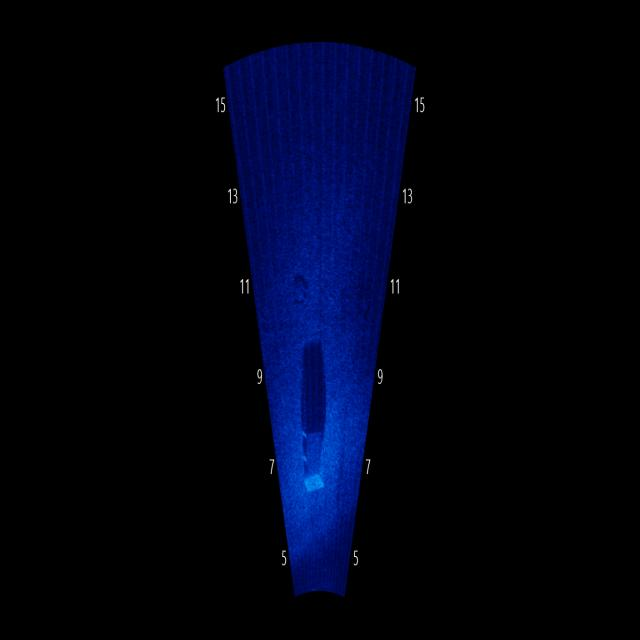square: (297, 412, 325, 504)
